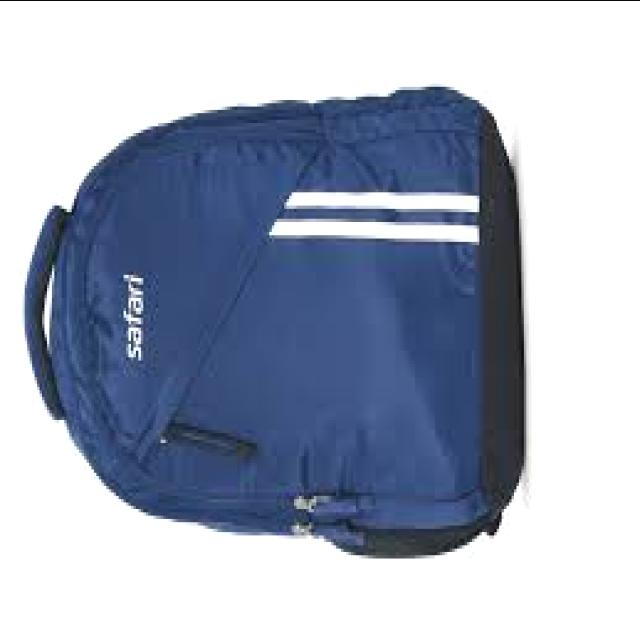backpack: (23, 87, 525, 562)
